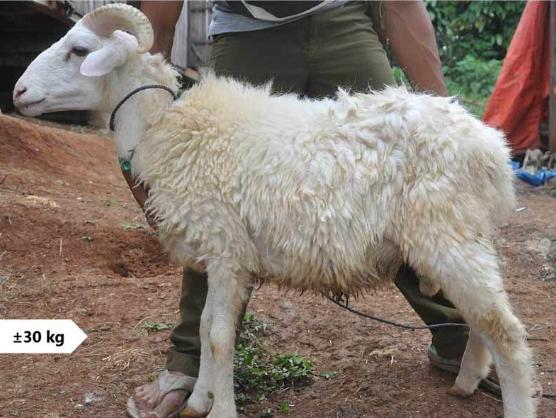Sheep: (12, 2, 187, 154)
